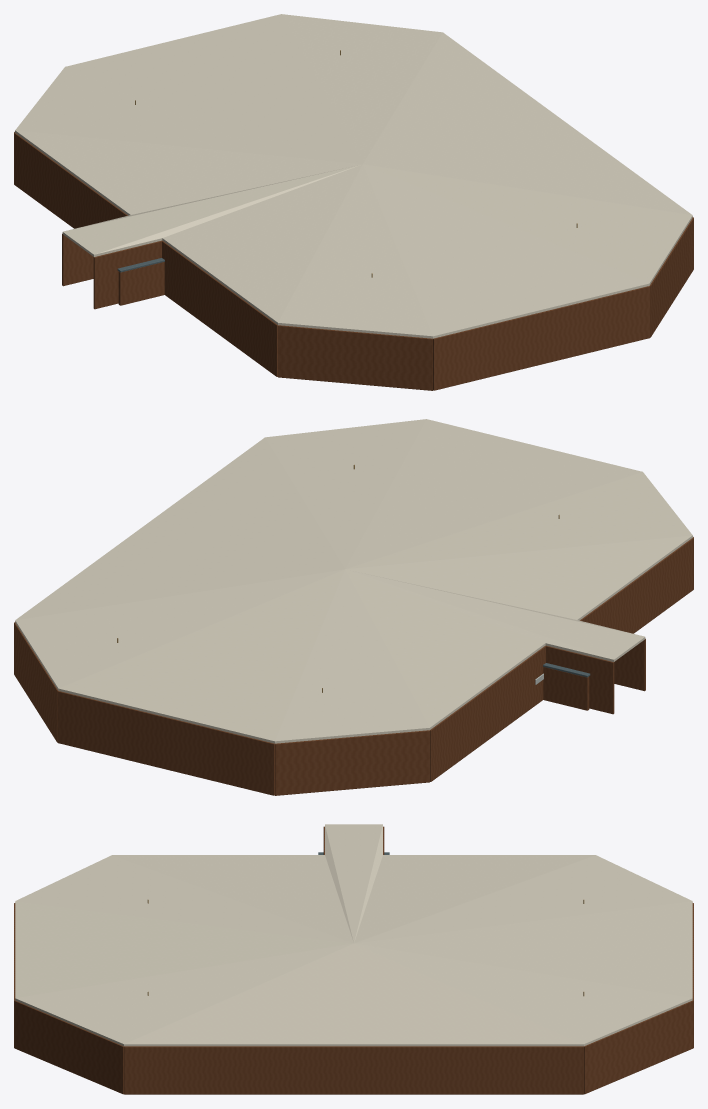
File: SOL_D05_directory_10_source001.glb
The picture shows the model from 3 angles, top to bottom: view 1: azimuth 30°, elevation 25°; view 2: azimuth 150°, elevation 25°; view 3: azimuth 270°, elevation 25°; orthographic projection. The views are drawn at different scales.
Parts seen in each view (by area): view 1: Pod0_Folded_roof_5, Pod0_Folded_roof_7, Pod0_Folded_roof_3, Pod0_Folded_roof_8, Pod0_Folded_roof_1, Pod0_Folded_roof_9, Pod0_Folded_roof_6, Pod0_Folded_roof_2, Pod0_Folded_roof_4, Enclosure_0_7, Enclosure_0_8, Enclosure_0_9 (+7 smaller); view 2: Pod0_Folded_roof_5, Pod0_Folded_roof_3, Pod0_Folded_roof_7, Pod0_Folded_roof_2, Pod0_Folded_roof_9, Pod0_Folded_roof_1, Pod0_Folded_roof_4, Pod0_Folded_roof_8, Pod0_Folded_roof_6, Enclosure_0_3, Enclosure_0_2, Enclosure_0_1 (+7 smaller); view 3: Pod0_Folded_roof_5, Enclosure_0_5, Pod0_Folded_roof_3, Pod0_Folded_roof_7, Pod0_Folded_roof_4, Pod0_Folded_roof_6, Pod0_Folded_roof_2, Pod0_Folded_roof_8, Pod0_Folded_roof_1, Pod0_Folded_roof_9, Enclosure_0_4, Enclosure_0_6 (+3 smaller).
Part boxes in pixels (x1=…): Pod0_Folded_roof_5: x1=363, y1=32, x2=691, y2=214; Pod0_Folded_roof_7: x1=363, y1=164, x2=649, y2=338; Pod0_Folded_roof_3: x1=65, y1=14, x2=362, y2=163; Pod0_Folded_roof_8: x1=278, y1=165, x2=432, y2=338; Pod0_Folded_roof_1: x1=15, y1=130, x2=361, y2=215; Pod0_Folded_roof_9: x1=162, y1=164, x2=362, y2=324; Pod0_Folded_roof_6: x1=364, y1=164, x2=692, y2=284; Pod0_Folded_roof_2: x1=15, y1=67, x2=362, y2=164; Pod0_Folded_roof_4: x1=281, y1=14, x2=442, y2=163; Enclosure_0_7: x1=433, y1=286, x2=649, y2=390; Enclosure_0_8: x1=278, y1=325, x2=432, y2=390; Enclosure_0_9: x1=162, y1=241, x2=277, y2=376; Pod0_Folded_roof_5: x1=16, y1=437, x2=344, y2=619; Pod0_Folded_roof_3: x1=58, y1=569, x2=344, y2=743; Pod0_Folded_roof_7: x1=345, y1=419, x2=642, y2=568; Pod0_Folded_roof_2: x1=275, y1=570, x2=429, y2=743; Pod0_Folded_roof_9: x1=346, y1=535, x2=692, y2=620; Pod0_Folded_roof_1: x1=345, y1=569, x2=545, y2=729; Pod0_Folded_roof_4: x1=15, y1=569, x2=343, y2=689; Pod0_Folded_roof_8: x1=345, y1=472, x2=692, y2=569; Pod0_Folded_roof_6: x1=265, y1=419, x2=426, y2=568; Enclosure_0_3: x1=58, y1=691, x2=274, y2=795; Enclosure_0_2: x1=275, y1=730, x2=429, y2=795; Enclosure_0_1: x1=430, y1=645, x2=545, y2=781; Pod0_Folded_roof_5: x1=124, y1=943, x2=583, y2=1046; Enclosure_0_5: x1=124, y1=1046, x2=583, y2=1094; Pod0_Folded_roof_3: x1=354, y1=901, x2=692, y2=998; Pod0_Folded_roof_7: x1=15, y1=901, x2=353, y2=998; Pod0_Folded_roof_4: x1=355, y1=943, x2=692, y2=1046; Pod0_Folded_roof_6: x1=15, y1=943, x2=352, y2=1046; Pod0_Folded_roof_2: x1=355, y1=855, x2=691, y2=943; Pod0_Folded_roof_8: x1=16, y1=855, x2=352, y2=943; Pod0_Folded_roof_1: x1=354, y1=855, x2=595, y2=943; Pod0_Folded_roof_9: x1=112, y1=855, x2=353, y2=943; Enclosure_0_4: x1=584, y1=1000, x2=693, y2=1094; Enclosure_0_6: x1=14, y1=1000, x2=123, y2=1094.
Size of the model in its own units: 43.1 by 5.35 by 56.2.
Materials: 15 (15 with a texture image).
